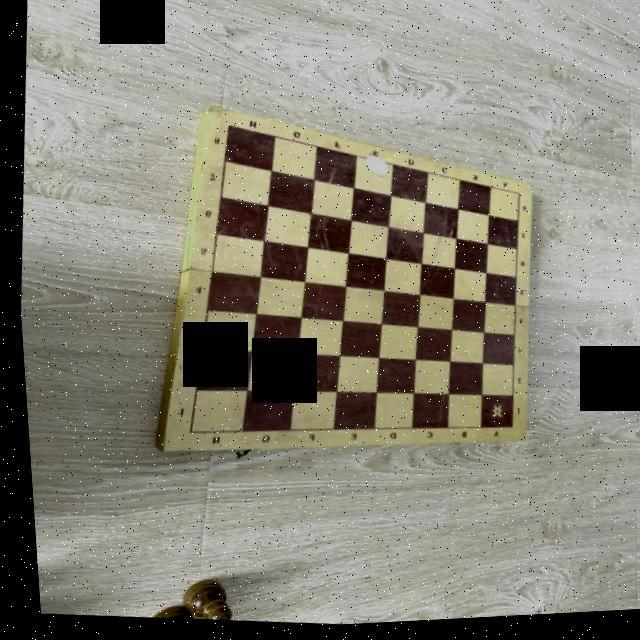chess-table-corners: (501, 427, 511, 435), (512, 195, 520, 202), (223, 124, 231, 130), (182, 430, 188, 435)
